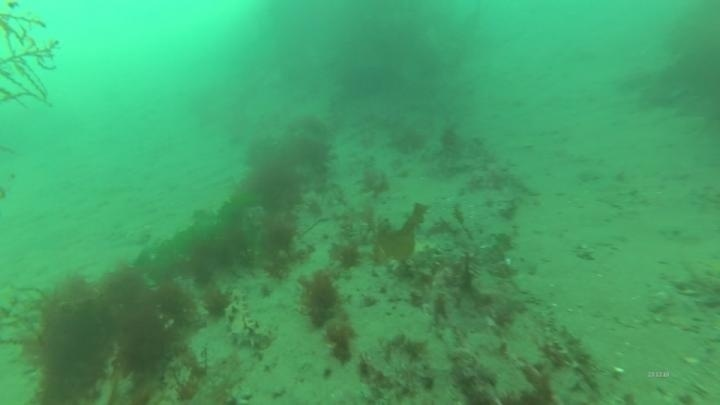holothurian: (221, 287, 277, 353)
